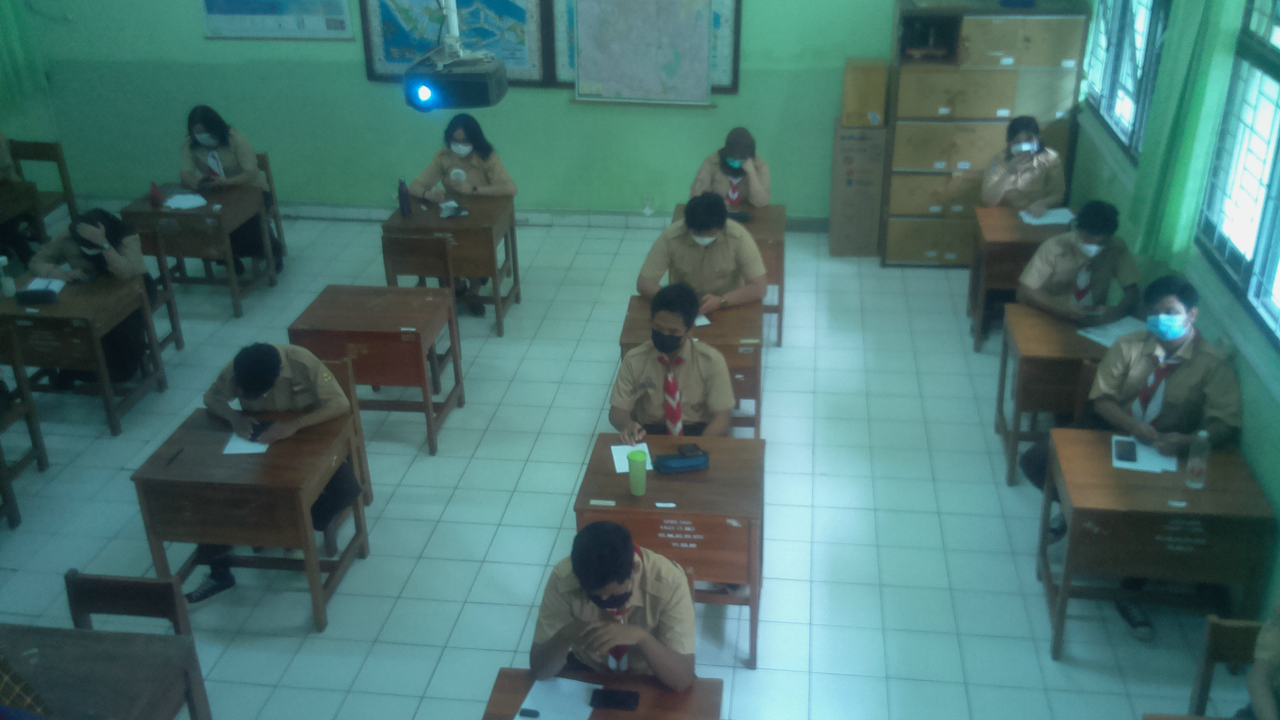Student: (549, 523, 701, 671), (1107, 277, 1228, 427), (623, 287, 729, 426), (648, 197, 758, 298), (1031, 197, 1130, 308), (213, 341, 344, 417), (983, 119, 1066, 213), (417, 117, 500, 192), (181, 103, 251, 185), (59, 201, 135, 272), (699, 123, 765, 204)
